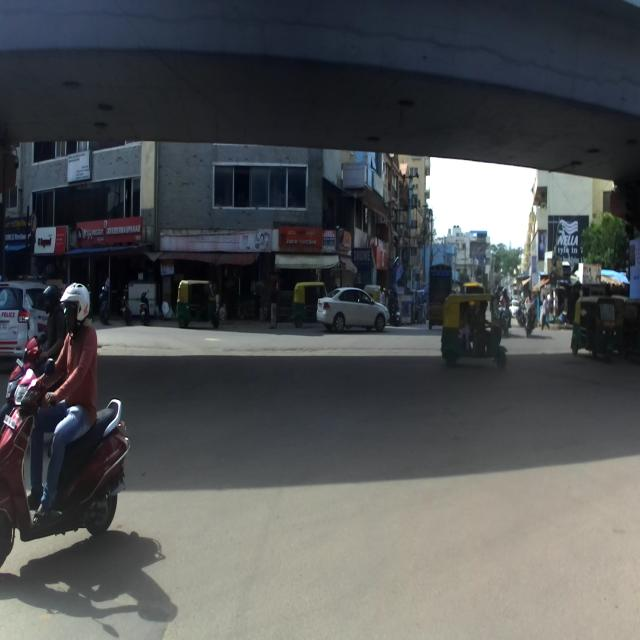auto ahead at: (437, 289, 511, 380)
car ahead at: (316, 281, 394, 339)
motorcycle ahead at: (3, 368, 132, 551)
